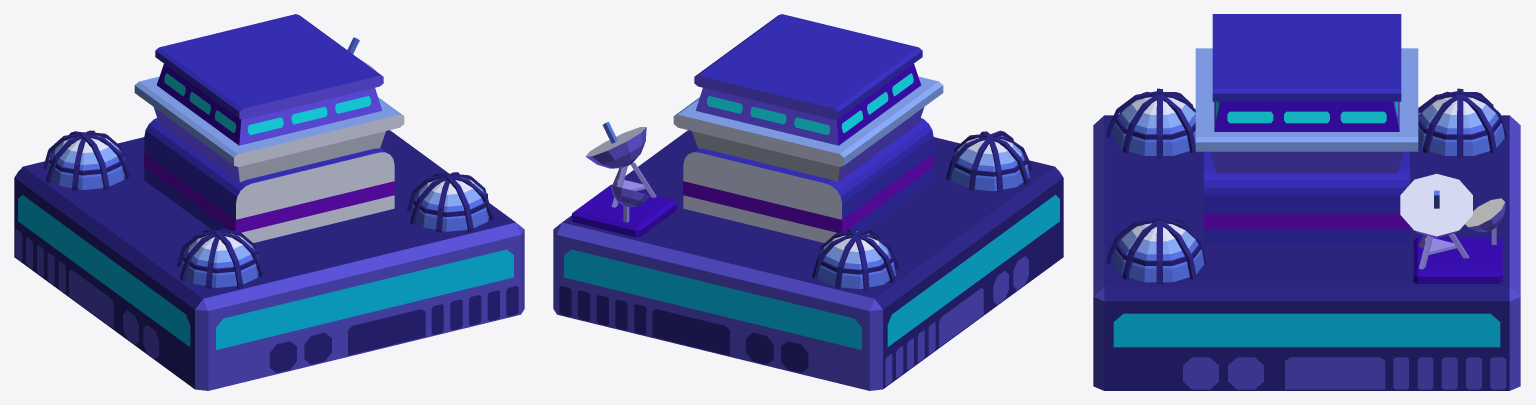
File: Building_049.fbx
3 renders of one model, left to right at view 1: azimuth 30°, elevation 25°; view 2: azimuth 150°, elevation 25°; view 3: azimuth 270°, elevation 25°, orthographic. The views are drawn at different scales.
Visible parts, largest first — view 1: Building_049; view 2: Building_049; view 3: Building_049.
Boxes of the visible parts, x1,y1,x2,y2 form: Building_049: [14, 14, 524, 390]; Building_049: [553, 14, 1063, 390]; Building_049: [1093, 14, 1520, 390].
Size of the model in its own units: 16.15 by 10.34 by 16.15.
